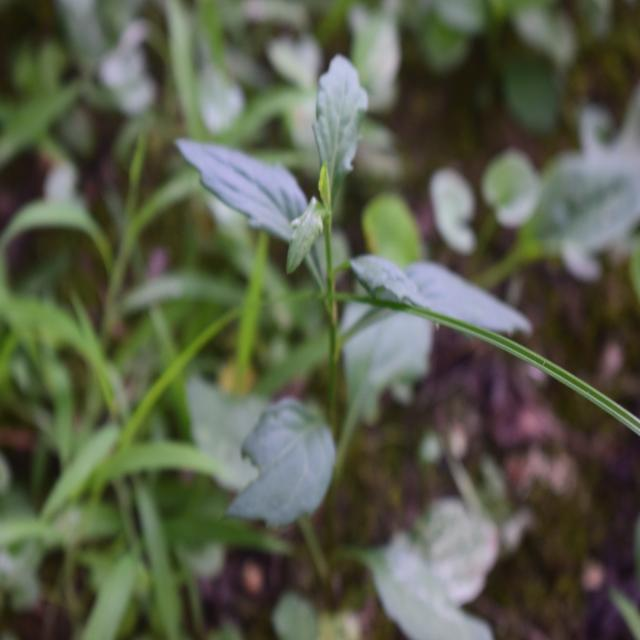Indian aster: (204, 23, 461, 562)
